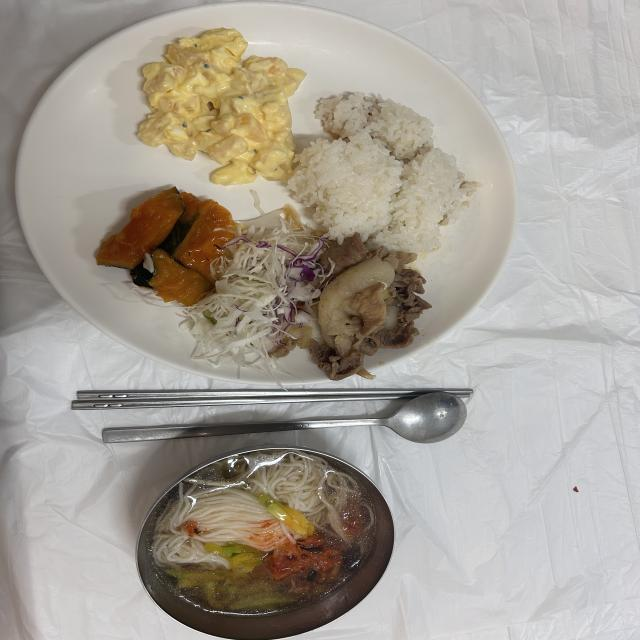bulgogi: (303, 240, 426, 367)
noodle: (178, 454, 372, 612)
plate: (19, 1, 523, 384)
pumpkin: (95, 188, 236, 301)
rice: (300, 94, 472, 253)
salad: (195, 219, 309, 359)
scramble: (145, 35, 315, 182)
